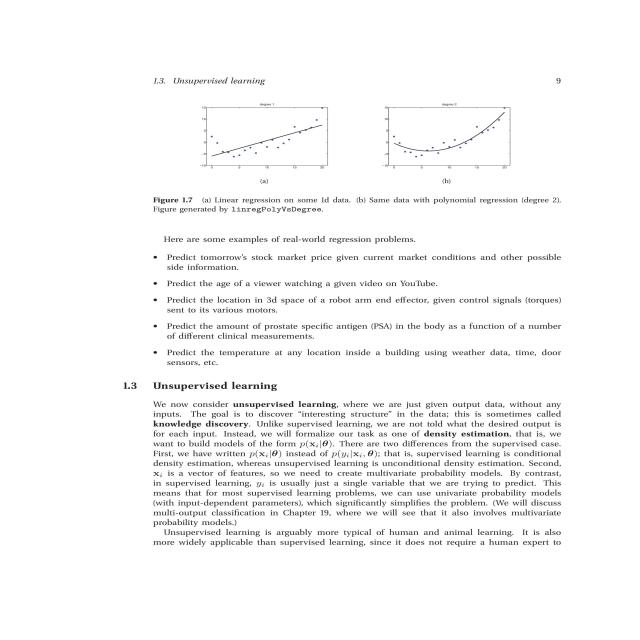diagram: (112, 90, 636, 220)
